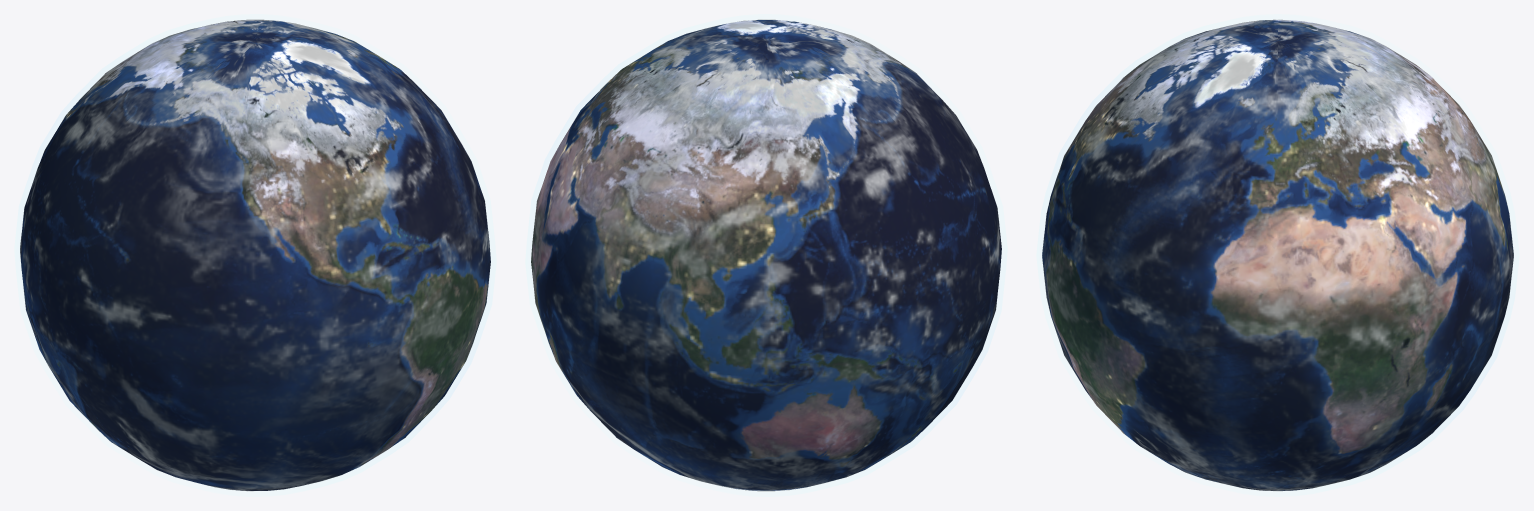
Rendered from centered_Earth.glb.
The picture shows the model from 3 angles, left to right: view 1: azimuth 30°, elevation 25°; view 2: azimuth 150°, elevation 25°; view 3: azimuth 270°, elevation 25°; orthographic projection.
Visible parts, largest first — view 1: Earth_land, Earth_clouds; view 2: Earth_land, Earth_clouds; view 3: Earth_land, Earth_clouds.
Boxes of the visible parts, x1,y1,x2,y2 form: Earth_land: [20, 20, 490, 490]; Earth_clouds: [20, 19, 490, 490]; Earth_land: [531, 20, 1001, 490]; Earth_clouds: [531, 19, 1001, 491]; Earth_land: [1042, 20, 1513, 490]; Earth_clouds: [1042, 19, 1513, 490].
Size of the model in its own units: 14.13 by 14.13 by 14.13.
3 materials, 2 textured.
